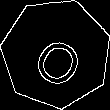O_NE: (24, 20, 88, 86)
